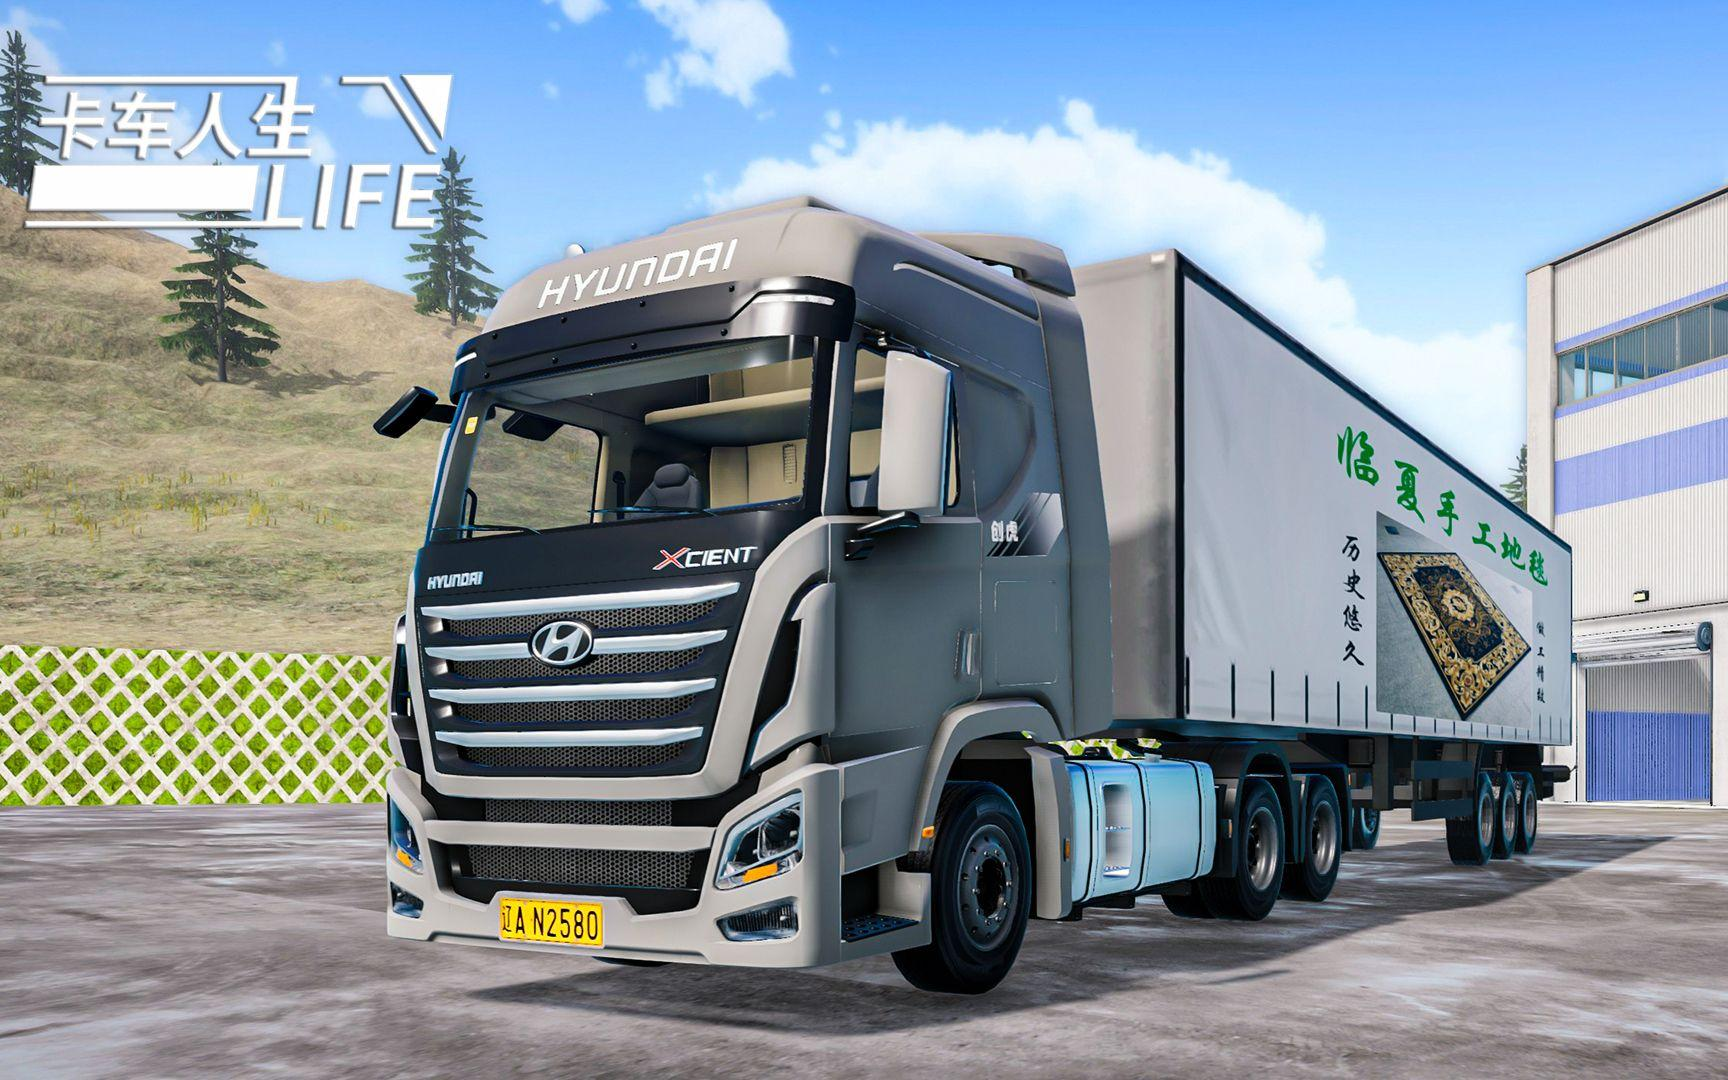truck: (355, 164, 1623, 1019)
